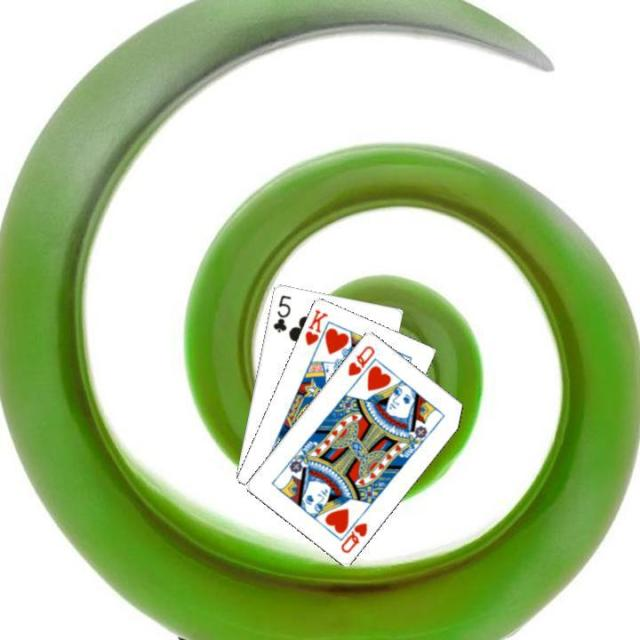5C: (270, 291, 292, 333)
KH: (300, 305, 330, 347)
QH: (335, 509, 369, 555), (344, 341, 377, 378)
